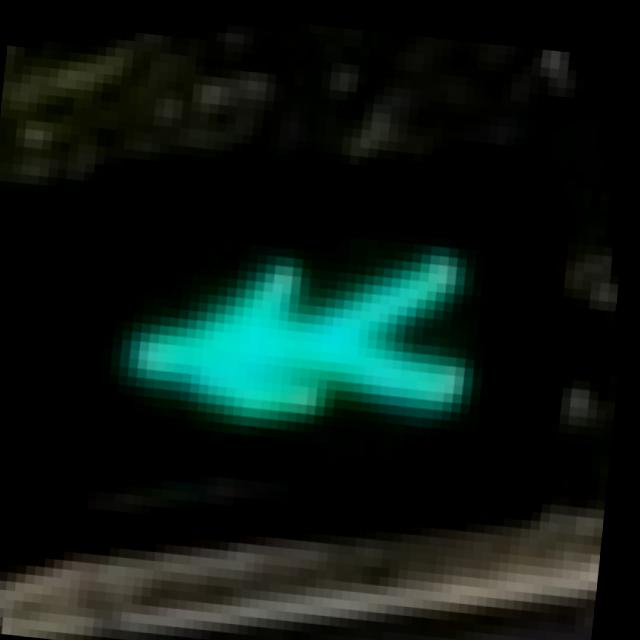green_light: (37, 131, 540, 571)
